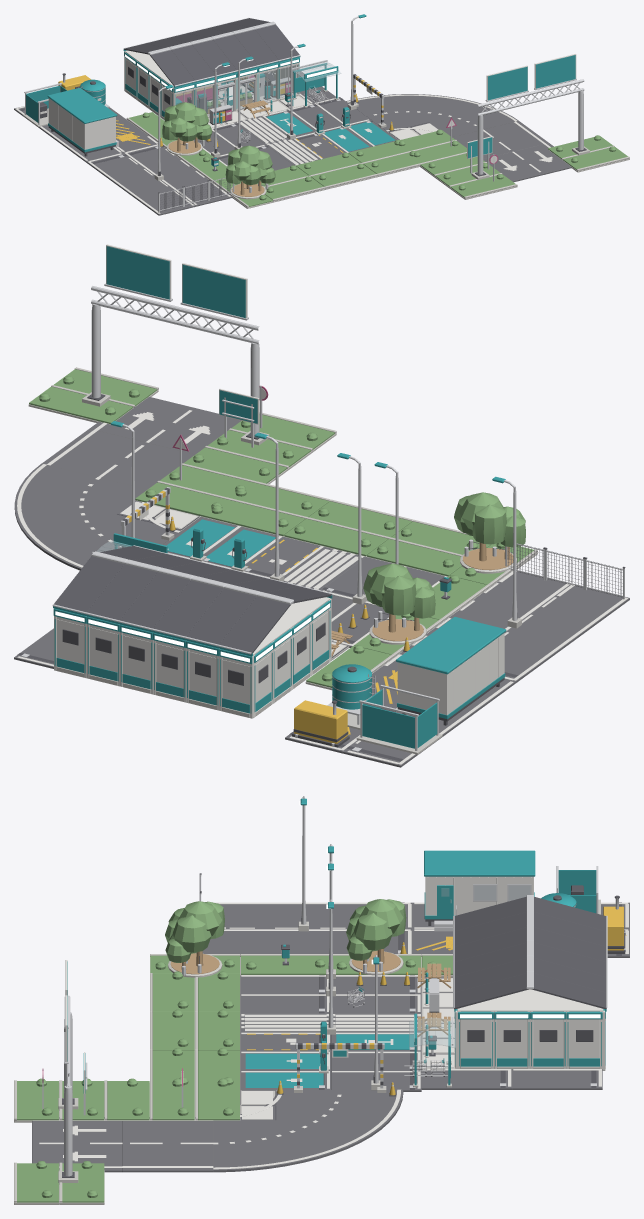
The picture shows the model from 3 angles, top to bottom: view 1: azimuth 30°, elevation 25°; view 2: azimuth 150°, elevation 25°; view 3: azimuth 270°, elevation 25°; orthographic projection. The views are drawn at different scales.
Parts seen in each view (by area): view 1: 146-slip-road-bend/0, 114-lorry-parking-bay-tile/0, 113-lorry-parking-bay-tile/0, 147-direction-sign-gantry/4, 147-direction-sign-gantry/1, 139-staff-cabin/1, 144-lane-arrow-road-tile/0, 135-tree-clump/2, 134-tree-clump/2, 139-staff-cabin/2, 145-slip-road-tile/0, 020-pitched-roof-section/1 (+52 smaller); view 2: 146-slip-road-bend/0, 114-lorry-parking-bay-tile/0, 147-direction-sign-gantry/4, 145-slip-road-tile/0, 139-staff-cabin/1, 147-direction-sign-gantry/1, 144-lane-arrow-road-tile/0, 139-staff-cabin/2, 113-lorry-parking-bay-tile/0, 135-tree-clump/2, 134-tree-clump/2, 020-pitched-roof-section/1 (+50 smaller); view 3: 146-slip-road-bend/0, 145-slip-road-tile/0, 139-staff-cabin/2, 144-lane-arrow-road-tile/0, 113-lorry-parking-bay-tile/0, 114-lorry-parking-bay-tile/0, 135-tree-clump/2, 134-tree-clump/2, 025-pitched-roof-section/1, 021-pitched-roof-section/1, 022-pitched-roof-section/1, 020-pitched-roof-section/1 (+57 smaller).
Boxes of the visible parts, box(x1,y1,x2,y2) form: 146-slip-road-bend/0: box(346, 94, 518, 136); 114-lorry-parking-bay-tile/0: box(86, 152, 195, 215); 113-lorry-parking-bay-tile/0: box(123, 144, 231, 206); 147-direction-sign-gantry/4: box(488, 55, 575, 100); 147-direction-sign-gantry/1: box(477, 79, 584, 174); 139-staff-cabin/1: box(48, 98, 115, 149); 144-lane-arrow-road-tile/0: box(483, 143, 571, 182); 135-tree-clump/2: box(162, 102, 212, 141); 134-tree-clump/2: box(225, 145, 275, 184); 139-staff-cabin/2: box(47, 87, 117, 152); 145-slip-road-tile/0: box(452, 121, 548, 158); 020-pitched-roof-section/1: box(124, 43, 194, 86); 146-slip-road-bend/0: box(14, 463, 181, 570); 114-lorry-parking-bay-tile/0: box(504, 585, 629, 683); 147-direction-sign-gantry/4: box(106, 246, 245, 317); 145-slip-road-tile/0: box(42, 428, 194, 489); 139-staff-cabin/1: box(397, 633, 504, 714); 147-direction-sign-gantry/1: box(91, 283, 259, 436); 144-lane-arrow-road-tile/0: box(89, 397, 241, 454); 139-staff-cabin/2: box(396, 617, 506, 719); 113-lorry-parking-bay-tile/0: box(400, 571, 570, 654); 135-tree-clump/2: box(363, 563, 435, 618); 134-tree-clump/2: box(454, 492, 525, 547); 020-pitched-roof-section/1: box(219, 586, 332, 654); 146-slip-road-bend/0: box(213, 1090, 403, 1172); 145-slip-road-tile/0: box(122, 1117, 213, 1172); 139-staff-cabin/2: box(424, 850, 535, 919); 144-lane-arrow-road-tile/0: box(32, 1117, 122, 1172); 113-lorry-parking-bay-tile/0: box(195, 929, 412, 953); 114-lorry-parking-bay-tile/0: box(220, 902, 412, 929); 135-tree-clump/2: box(346, 899, 406, 960); 134-tree-clump/2: box(165, 901, 224, 962); 025-pitched-roof-section/1: box(454, 973, 606, 1008); 021-pitched-roof-section/1: box(454, 912, 605, 946); 022-pitched-roof-section/1: box(454, 927, 605, 961); 020-pitched-roof-section/1: box(454, 896, 605, 931).
Bounding box in the file's own units: 39.35 × 9.32 × 34.
